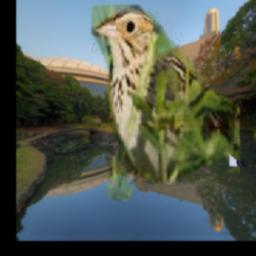Crow: (230, 89, 256, 167)
Sparrow: (91, 5, 240, 200)
